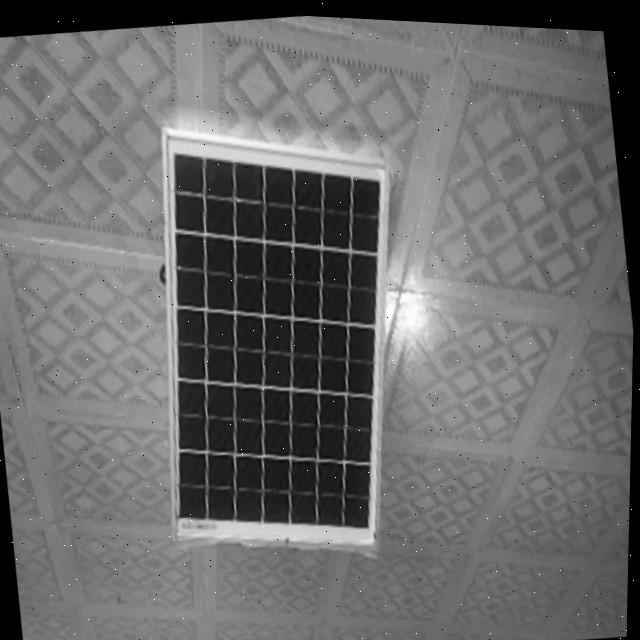Normal Solar Panel: (124, 96, 437, 576)
